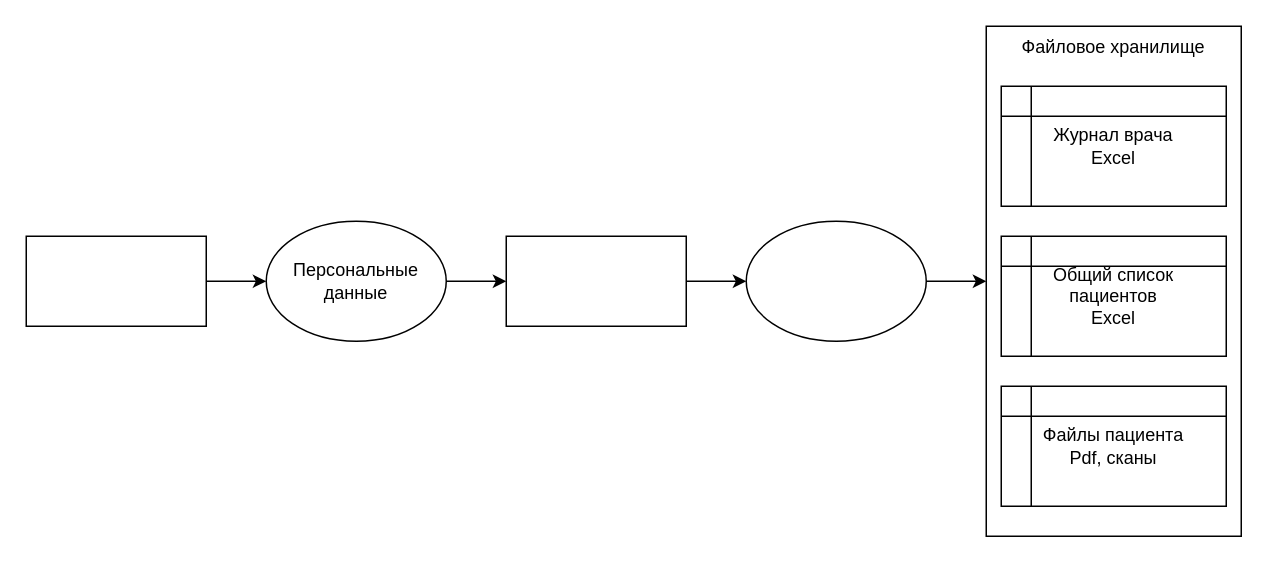
This 1268x563 diagram has some shape labels left out. The centre of each missing label's shape, as x and y in pixels:
"Администратор" belongs at [595,280].
"Внесение данных" belongs at [835,280].
"Пациент" belongs at [115,280].
